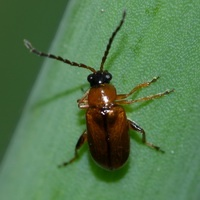insect: (24, 10, 174, 169)
